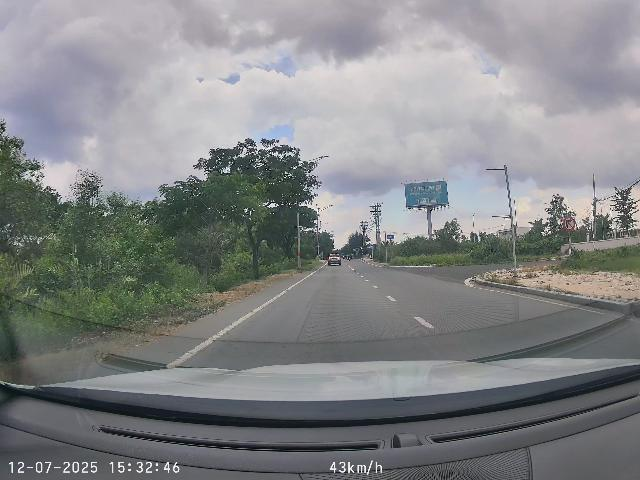123b-cam-re-phai: (563, 216, 575, 231)
